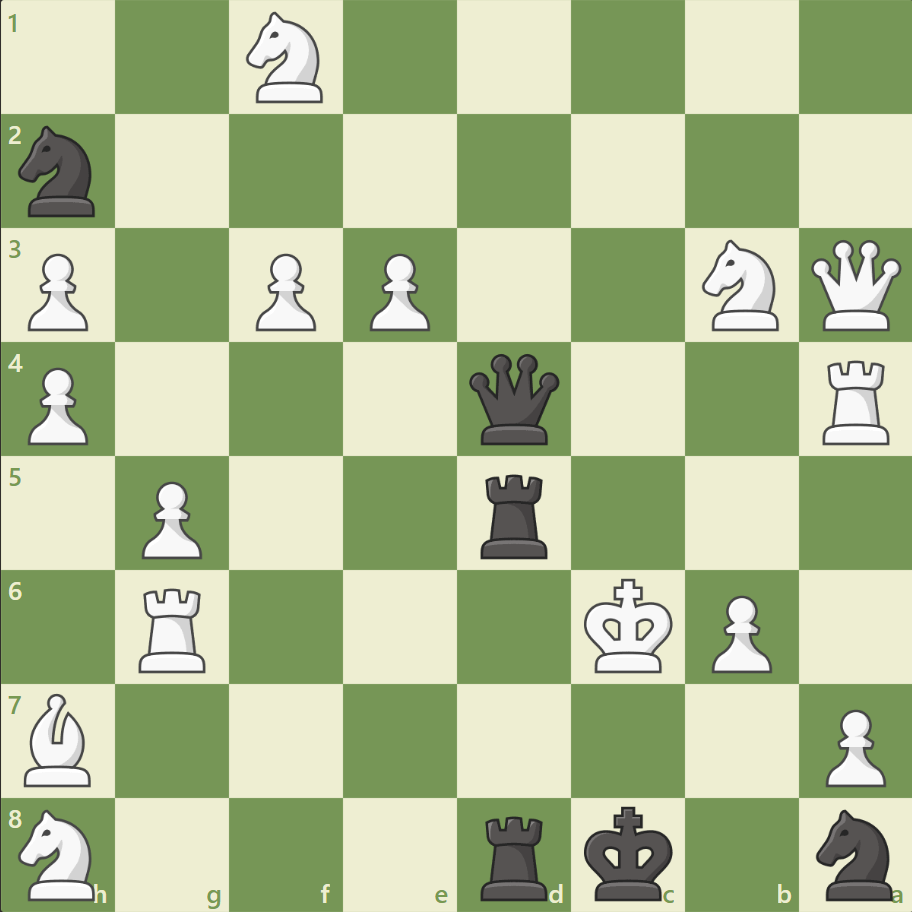B: (17, 687, 101, 790)
K: (579, 571, 679, 679)
N: (692, 234, 789, 337), (238, 7, 335, 110), (11, 802, 108, 904)
P: (701, 586, 776, 677), (133, 473, 208, 564), (20, 359, 95, 450), (247, 246, 322, 337), (20, 246, 95, 337), (815, 700, 889, 791), (361, 246, 435, 337)
Q: (805, 236, 904, 335)
R: (814, 352, 897, 449), (133, 579, 215, 676)
k: (579, 798, 679, 906)
n: (806, 802, 903, 904), (11, 121, 108, 223)
q: (464, 349, 563, 449)
r: (473, 806, 556, 904), (473, 466, 556, 563)
